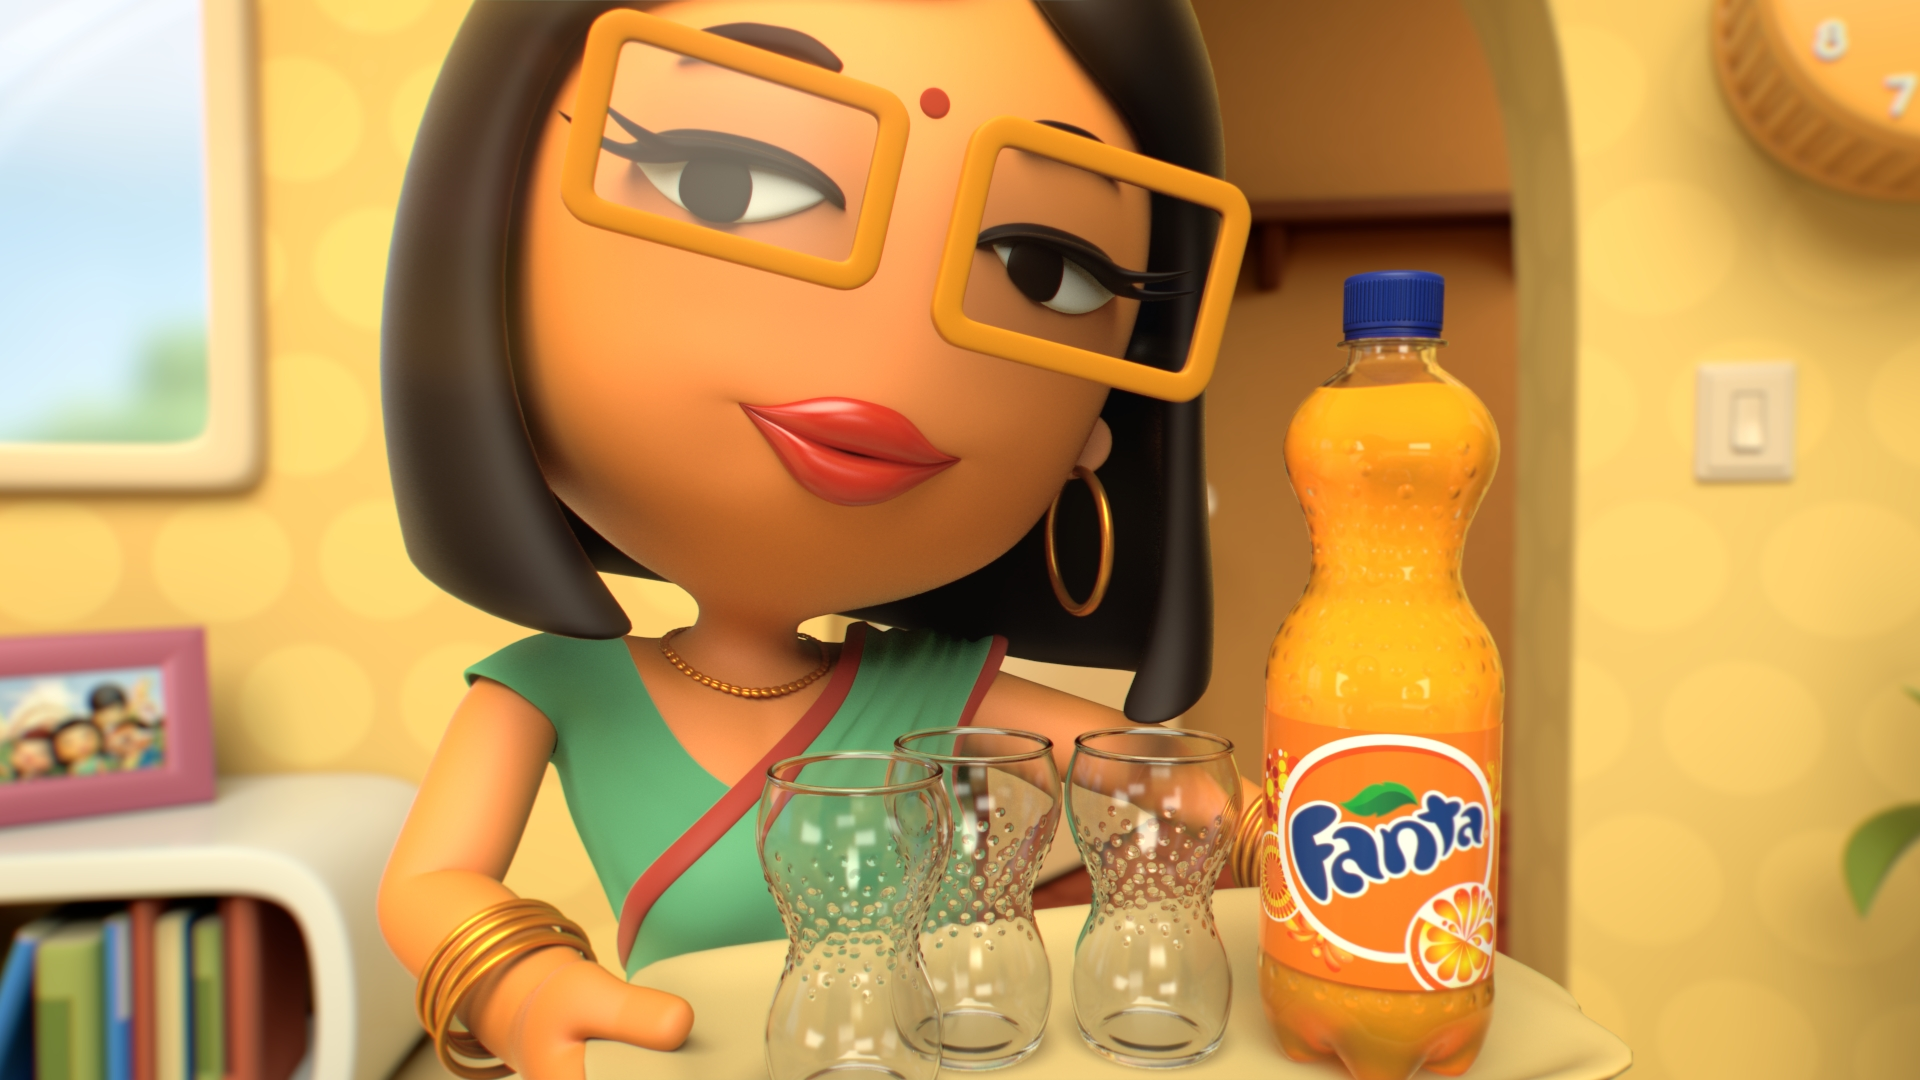fanta: (1276, 287, 1505, 1058)
